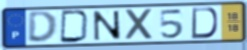5: (159, 8, 185, 40)
D: (26, 10, 59, 45), (59, 9, 91, 44), (190, 6, 220, 40)
N: (91, 10, 123, 42)
X: (124, 7, 156, 42)
